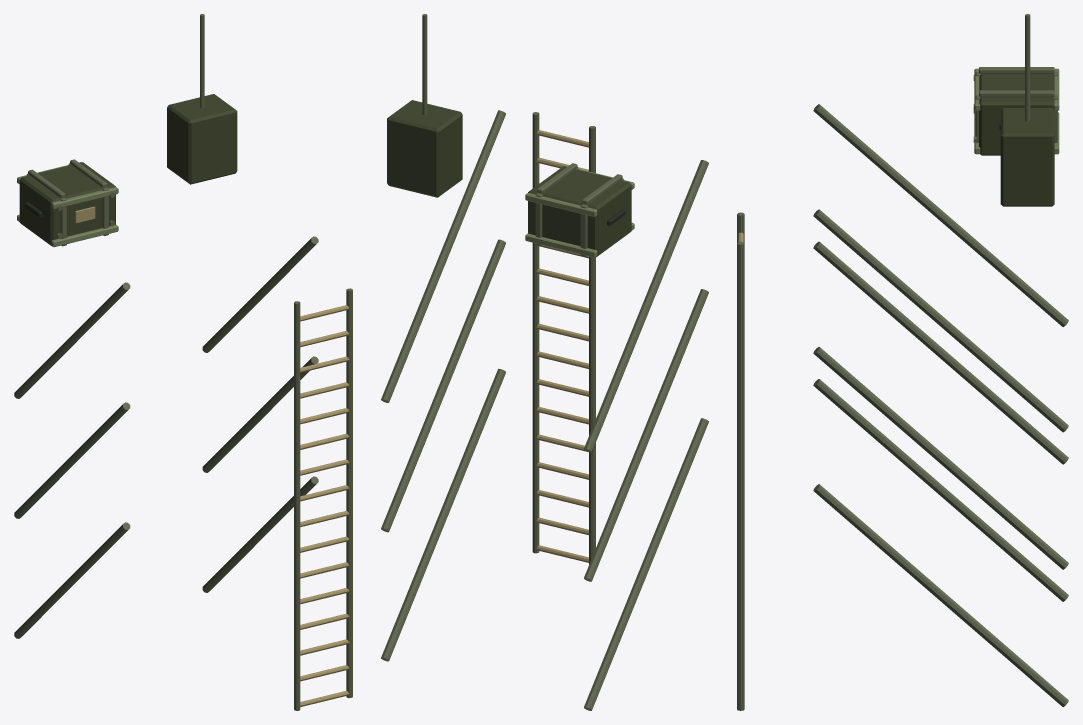
Rendered from detail_watchtower.obj.
3 renders of one model, left to right at view 1: azimuth 30°, elevation 25°; view 2: azimuth 150°, elevation 25°; view 3: azimuth 270°, elevation 25°, orthographic. The views are drawn at different scales.
Parts seen in each view (by area): view 1: detail_watchtower; view 2: detail_watchtower; view 3: detail_watchtower.
Part boxes in pixels (<box>): detail_watchtower: <box>14,14,352,710</box>; detail_watchtower: <box>381,14,708,710</box>; detail_watchtower: <box>737,14,1068,710</box>.
Bounding box in the file's own units: 2.44 × 6.95 × 3.07.
1 material, 1 textured.
